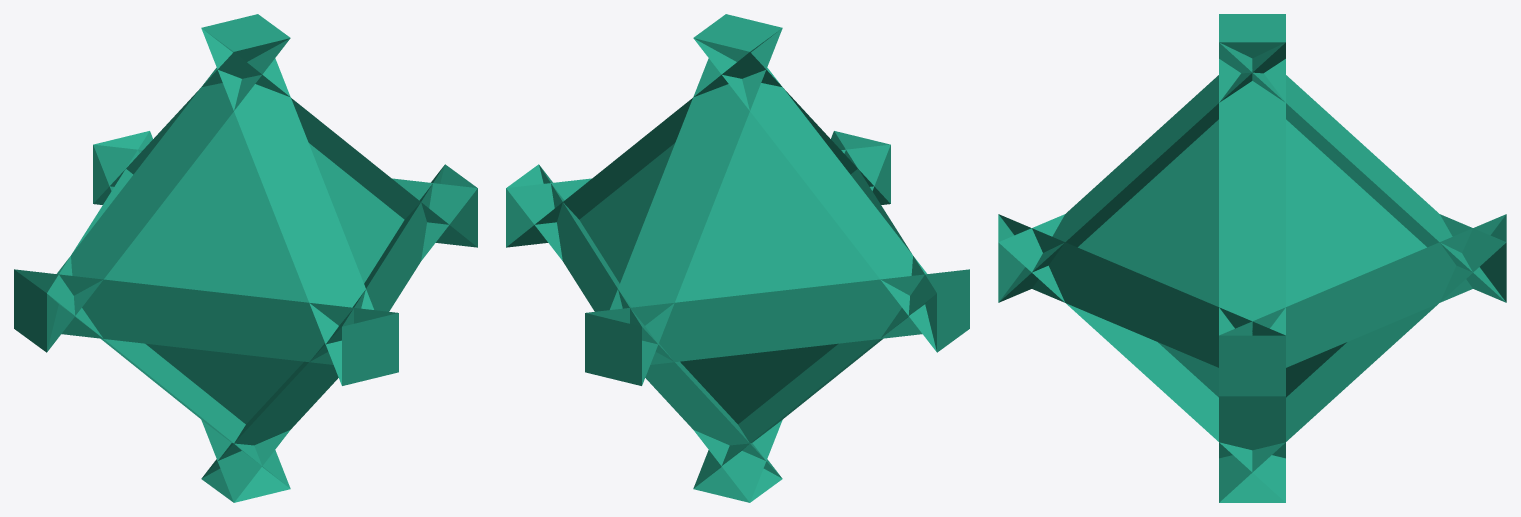
The model's file is coin.glb.
3 renders of one model, left to right at view 1: azimuth 30°, elevation 25°; view 2: azimuth 150°, elevation 25°; view 3: azimuth 270°, elevation 25°, orthographic. The views are drawn at different scales.
Parts seen in each view (by area): view 1: Cube; view 2: Cube; view 3: Cube.
Part boxes in pixels (x1,y1,x2,y2): Cube: [14, 14, 477, 502]; Cube: [506, 14, 969, 502]; Cube: [998, 14, 1506, 502].
Size of the model in its own units: 2 by 2 by 2.
